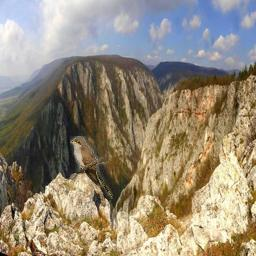Cuckoo: (71, 137, 114, 200)
